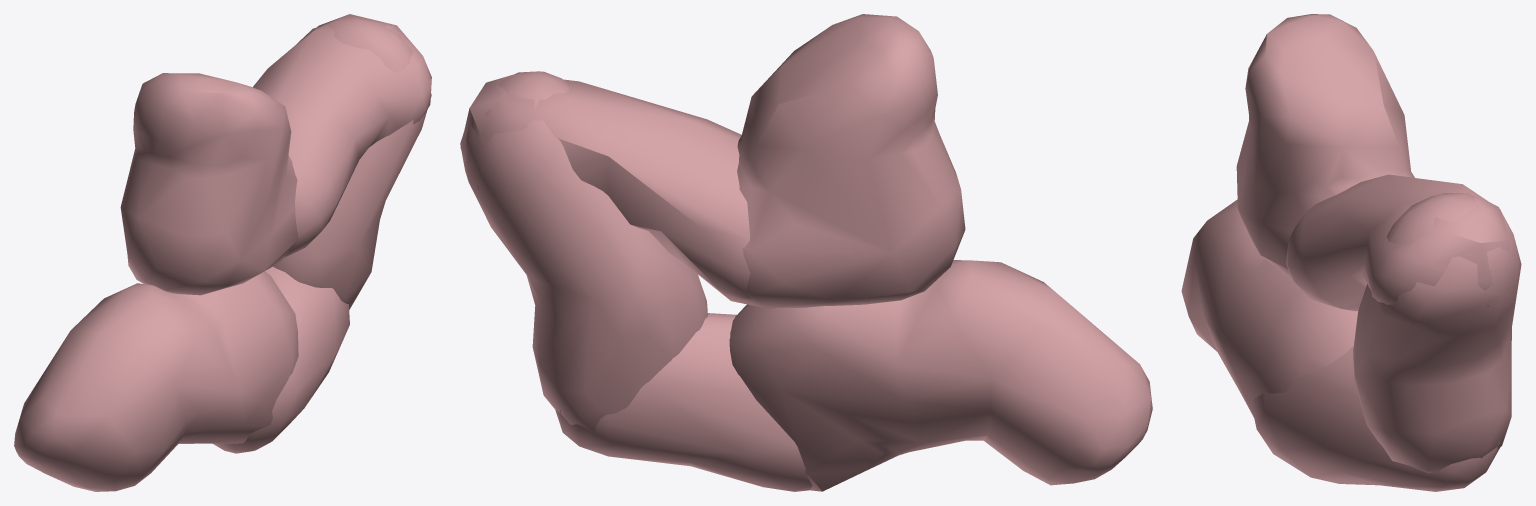
The model's file is fma16982_cx29.glb.
3 views of the same model, side by side, from view 1: azimuth 30°, elevation 25°; view 2: azimuth 150°, elevation 25°; view 3: azimuth 270°, elevation 25° (orthographic). The views are drawn at different scales.
Parts seen in each view (by area): view 1: FMA16982_CX29; view 2: FMA16982_CX29; view 3: FMA16982_CX29.
Part boxes in pixels (box(x1,y1,x2,y2)): FMA16982_CX29: box(14, 14, 431, 491); FMA16982_CX29: box(460, 14, 1152, 491); FMA16982_CX29: box(1181, 14, 1521, 491).
Size of the model in its own units: 0.0874 by 0.0677 by 0.0495.
